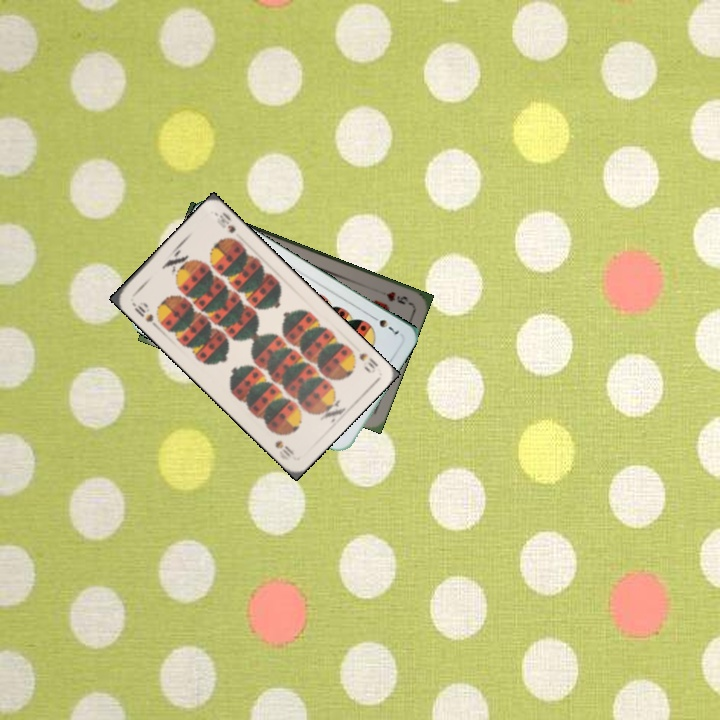H9: (382, 287, 413, 308)
S10: (346, 345, 381, 376), (127, 298, 160, 330)
S7: (366, 311, 403, 338)
